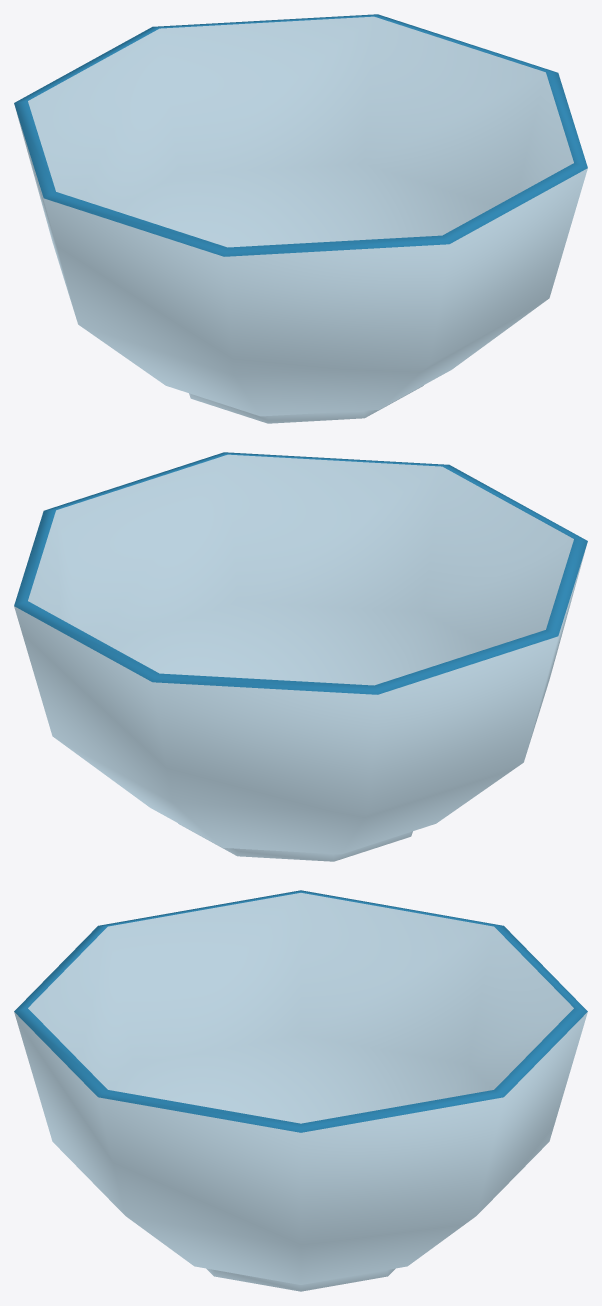
Rendered from Bowl.glb.
3 views of the same model, one above another, from view 1: azimuth 30°, elevation 25°; view 2: azimuth 150°, elevation 25°; view 3: azimuth 270°, elevation 25° (orthographic). The views are drawn at different scales.
Parts seen in each view (by area): view 1: Bowl; view 2: Bowl; view 3: Bowl.
Part boxes in pixels (x1,y1,x2,y2): Bowl: (14, 14, 587, 423); Bowl: (14, 452, 587, 861); Bowl: (14, 890, 587, 1291).
Bounding box in the file's own units: 0.2944 × 0.131 × 0.2944.
